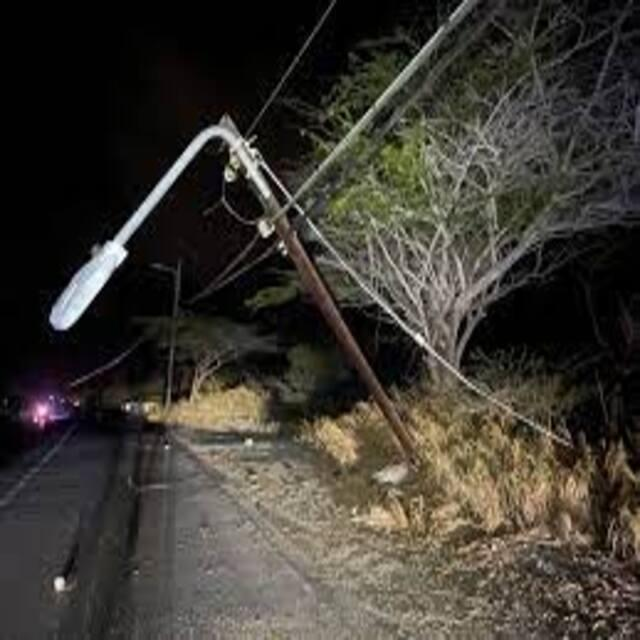Inclined Pole: (42, 113, 433, 467)
